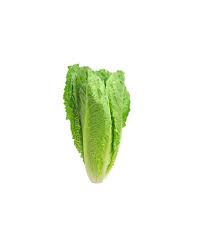Lettuce: (53, 59, 140, 188)
